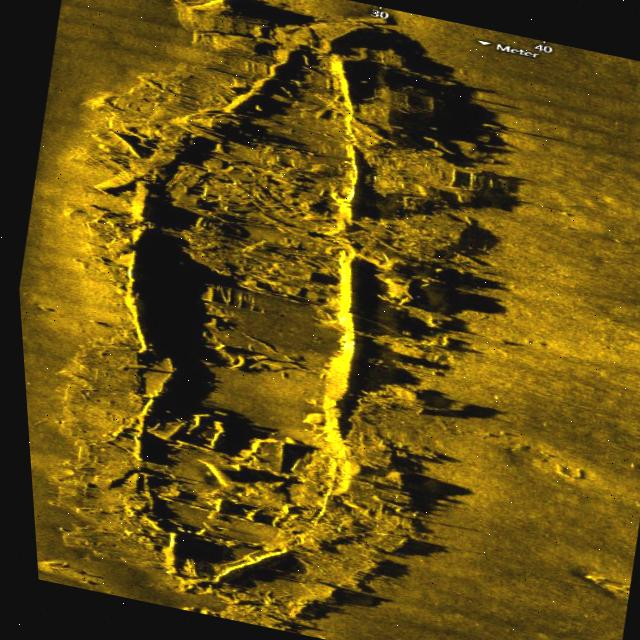shipwreck: (53, 0, 467, 616)
